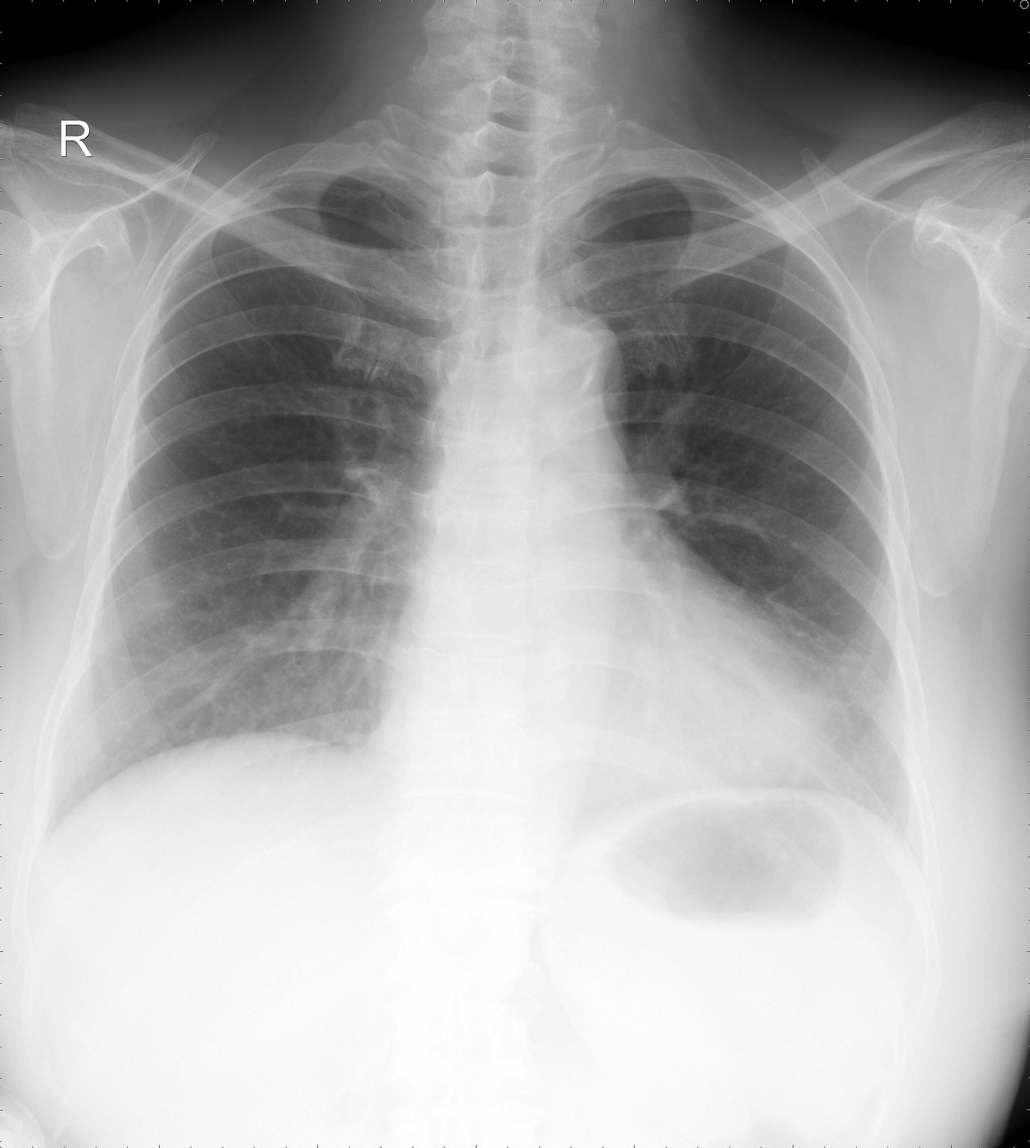Aortic enlargement: (511, 306, 626, 423)
Cardiomegaly: (380, 619, 860, 829)
